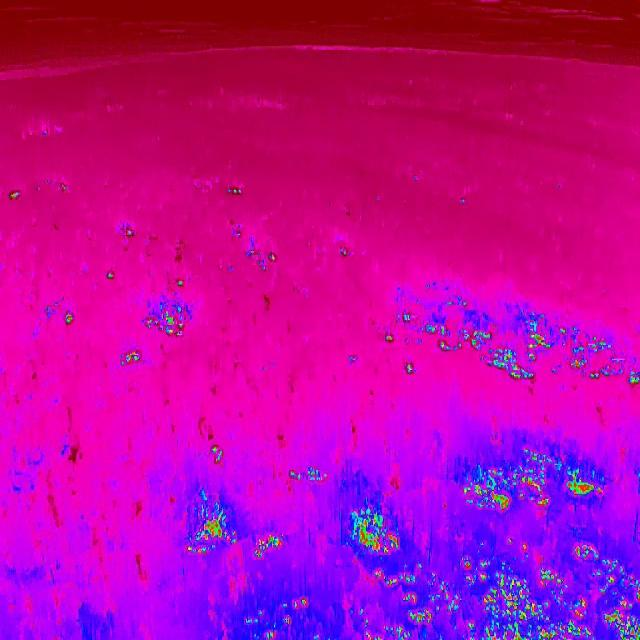fire: (255, 540, 640, 640), (379, 293, 640, 399), (455, 442, 606, 517), (186, 481, 280, 571), (334, 491, 404, 557), (142, 299, 190, 339), (197, 440, 230, 466), (119, 347, 144, 369), (62, 302, 76, 328), (6, 187, 25, 206), (225, 183, 244, 201), (102, 266, 117, 286)
